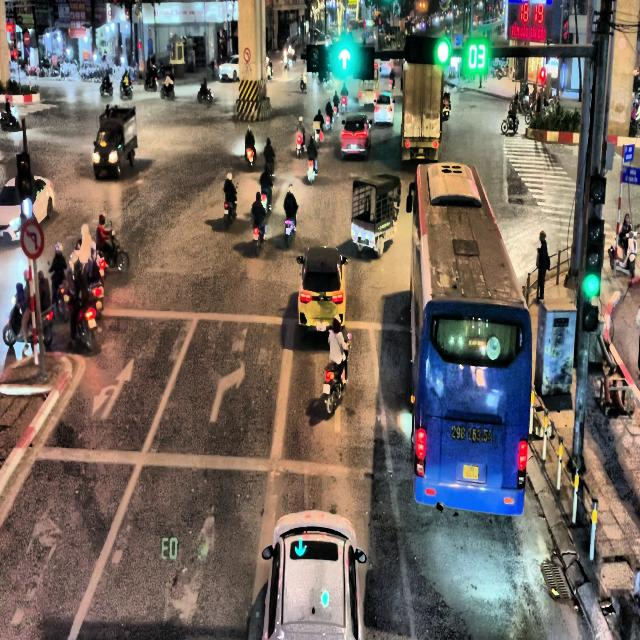BUS: (408, 161, 532, 516)
CAR: (247, 509, 366, 639), (296, 246, 348, 337), (0, 173, 54, 244), (341, 114, 371, 159), (373, 90, 395, 126)
MOTORBIKE: (2, 296, 55, 349), (62, 284, 98, 351), (322, 332, 351, 414), (100, 228, 129, 273), (0, 102, 19, 130), (253, 219, 266, 256), (223, 198, 237, 230), (501, 110, 519, 134), (284, 216, 296, 247), (119, 79, 133, 99), (160, 79, 174, 99), (260, 188, 270, 214), (197, 86, 213, 102), (245, 145, 256, 168), (144, 74, 158, 91), (307, 159, 316, 184), (442, 91, 450, 119), (100, 79, 113, 96), (296, 132, 304, 157), (325, 113, 333, 130), (300, 74, 307, 92)
